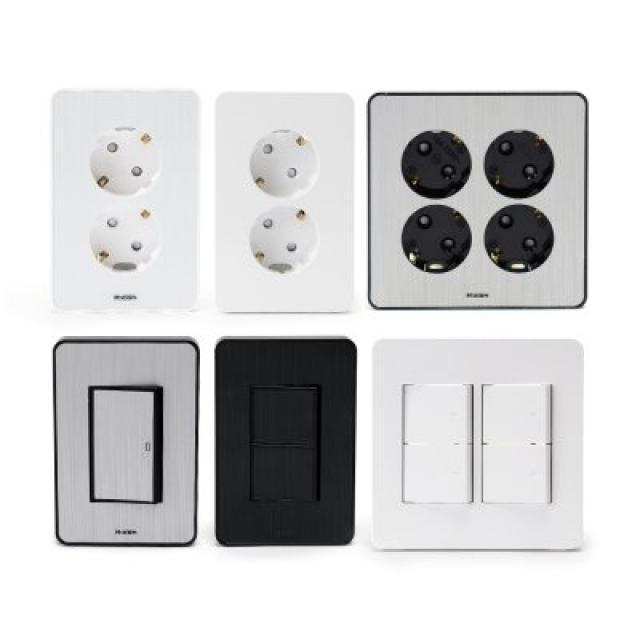typeb: (360, 87, 595, 317), (47, 80, 211, 323), (200, 88, 361, 320)
